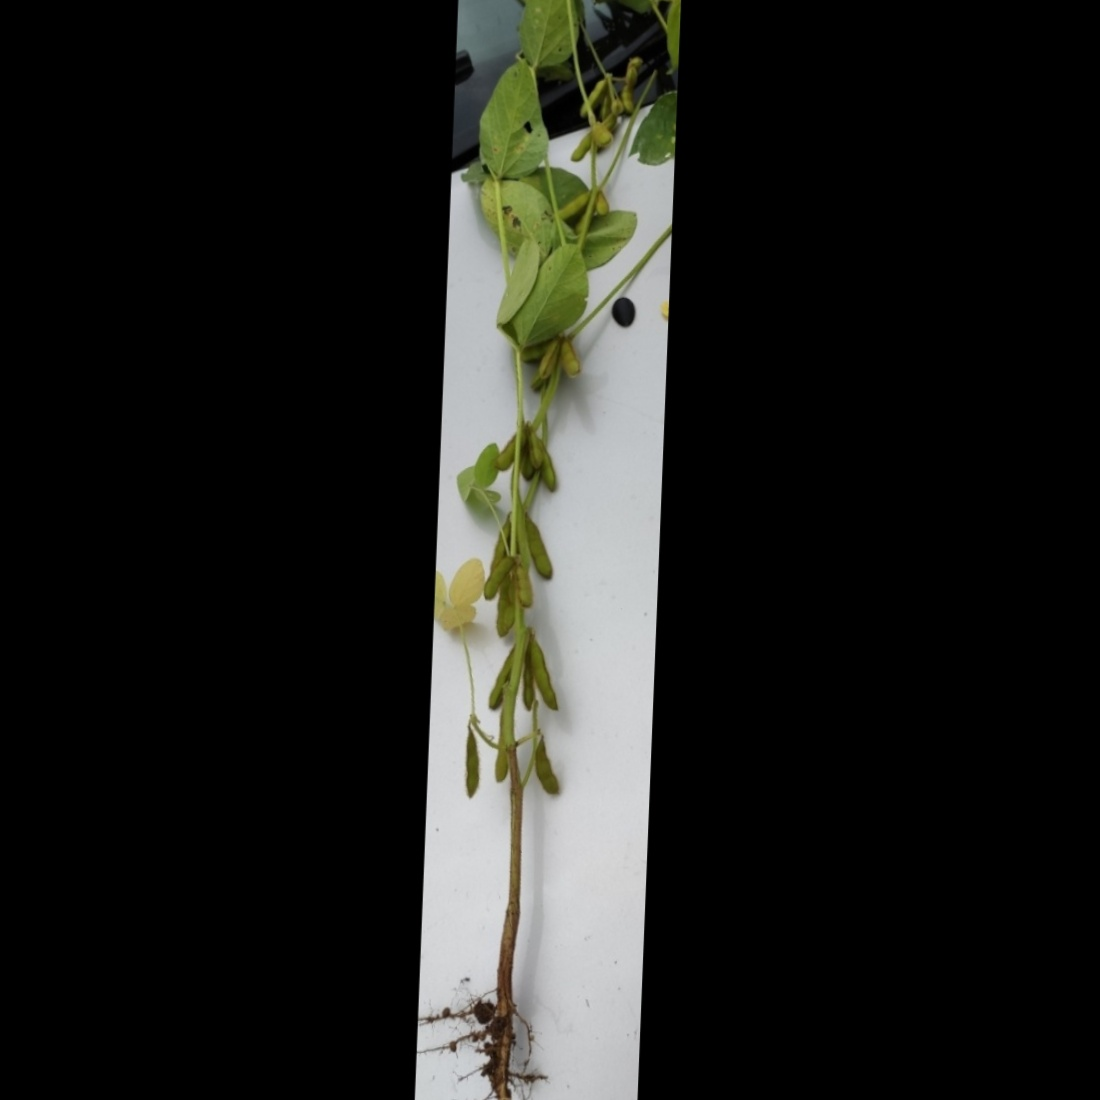pod: (527, 641, 561, 715), (521, 517, 559, 580), (529, 735, 563, 801), (479, 553, 515, 603), (461, 725, 482, 802), (580, 73, 609, 120), (556, 337, 583, 380)
soy: (427, 0, 679, 1086)
